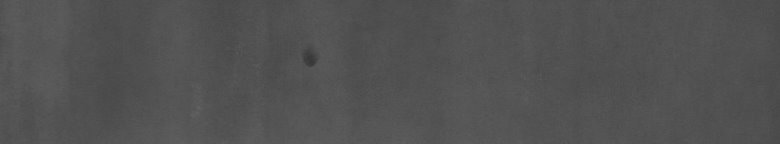fi: (299, 50, 320, 72)
